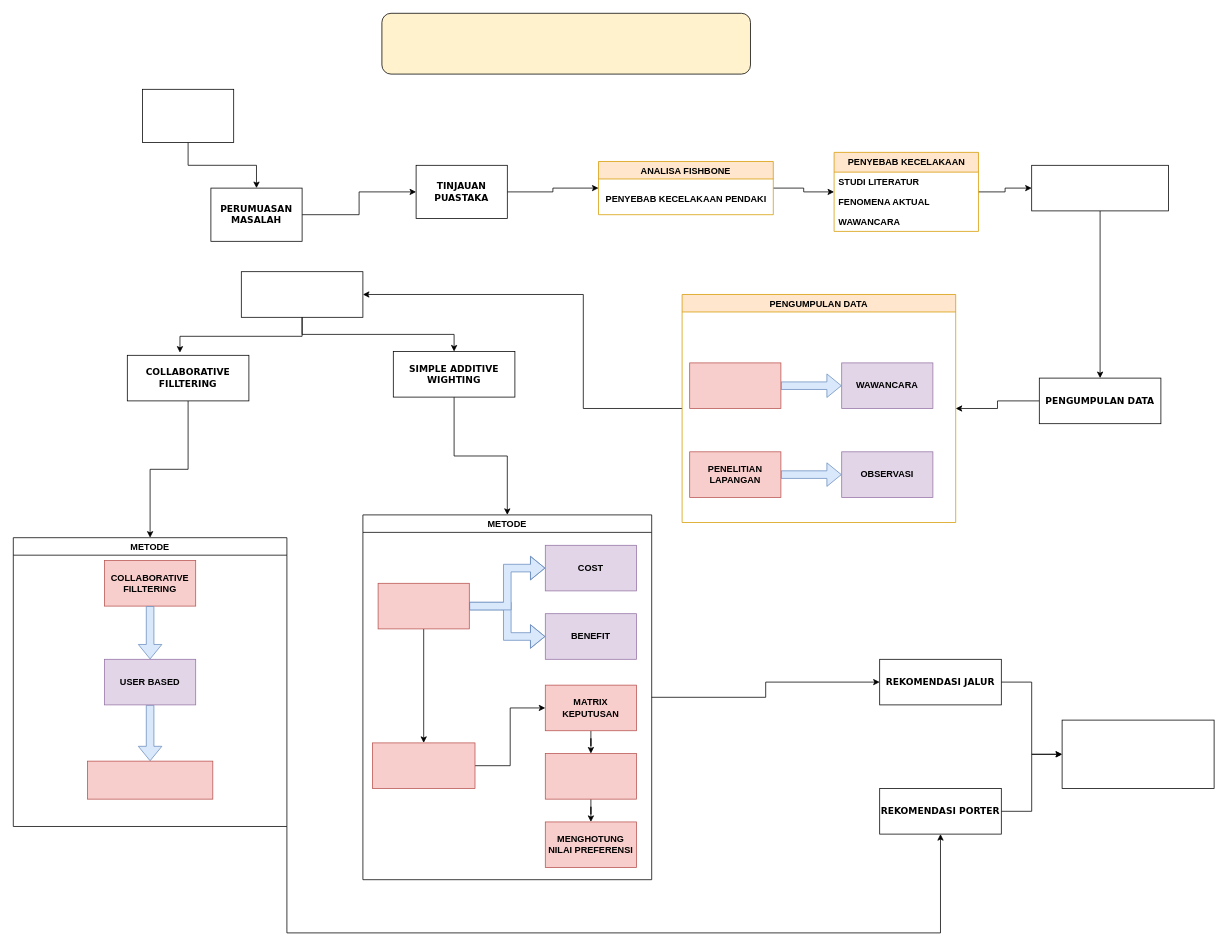
Some shapes in this 1227 by 952 pixel diagram are drawn without their labels. Each missing label, with the centre of its shape:
"ADJUSTED COSINE SIMILARITY" goes at (x=150, y=779).
"DIAGRAM ALIR PENELITIAN" goes at (x=565, y=43).
"IDENTIFIKASI MASALAH" goes at (x=188, y=115).
"MENENTUKAN PEMBOBOTAN" goes at (x=423, y=606).
"NOERMALISASI MATRIX" goes at (x=590, y=776).
"PENGOLAHAN DATA" goes at (x=302, y=294).
"PERHITUNGAN MATRIX" goes at (x=423, y=765).
"SISTEM REKOMENDASI" goes at (x=1099, y=188).
"SISTEM REKOMENDASI BERBASIS LARAVEL WEBSITE" goes at (x=1137, y=753).
"SURVEI" goes at (x=735, y=385).
